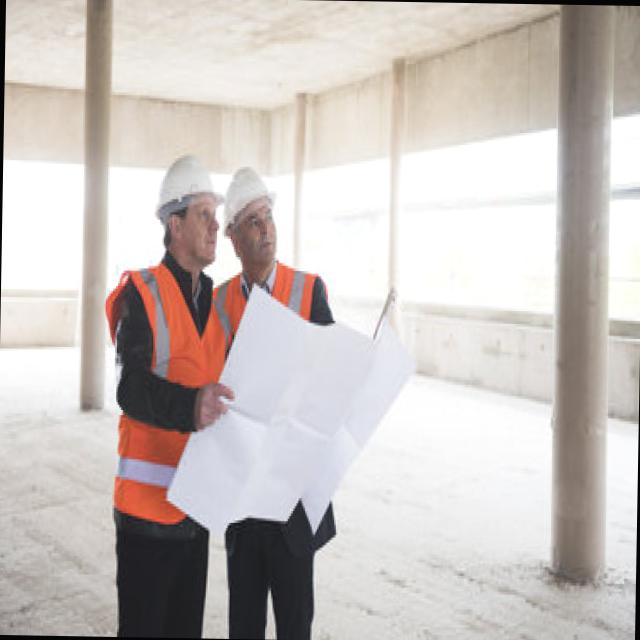helmet: (153, 152, 222, 224), (222, 158, 274, 240)
no-goggles: (193, 203, 218, 231), (244, 209, 274, 232)
vest: (103, 260, 229, 520), (224, 261, 317, 341)
